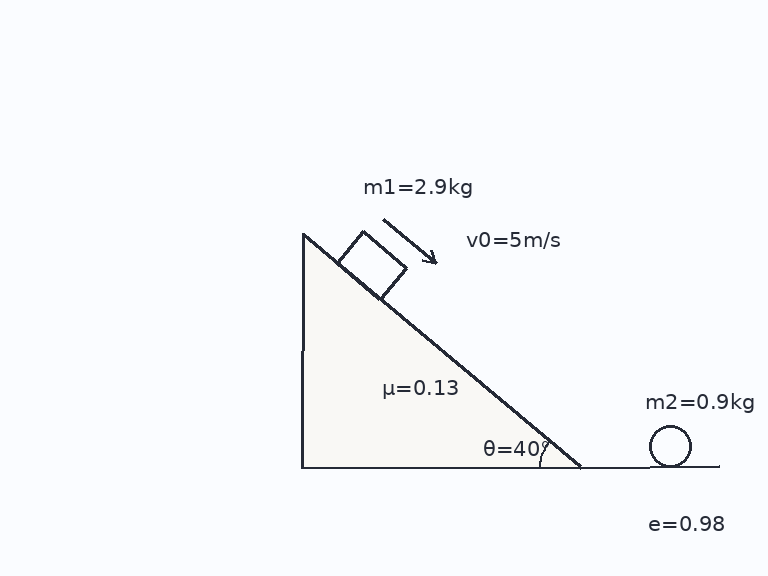ball: (647, 423, 693, 469)
block: (335, 230, 408, 301)
ramp: (301, 232, 582, 469)
